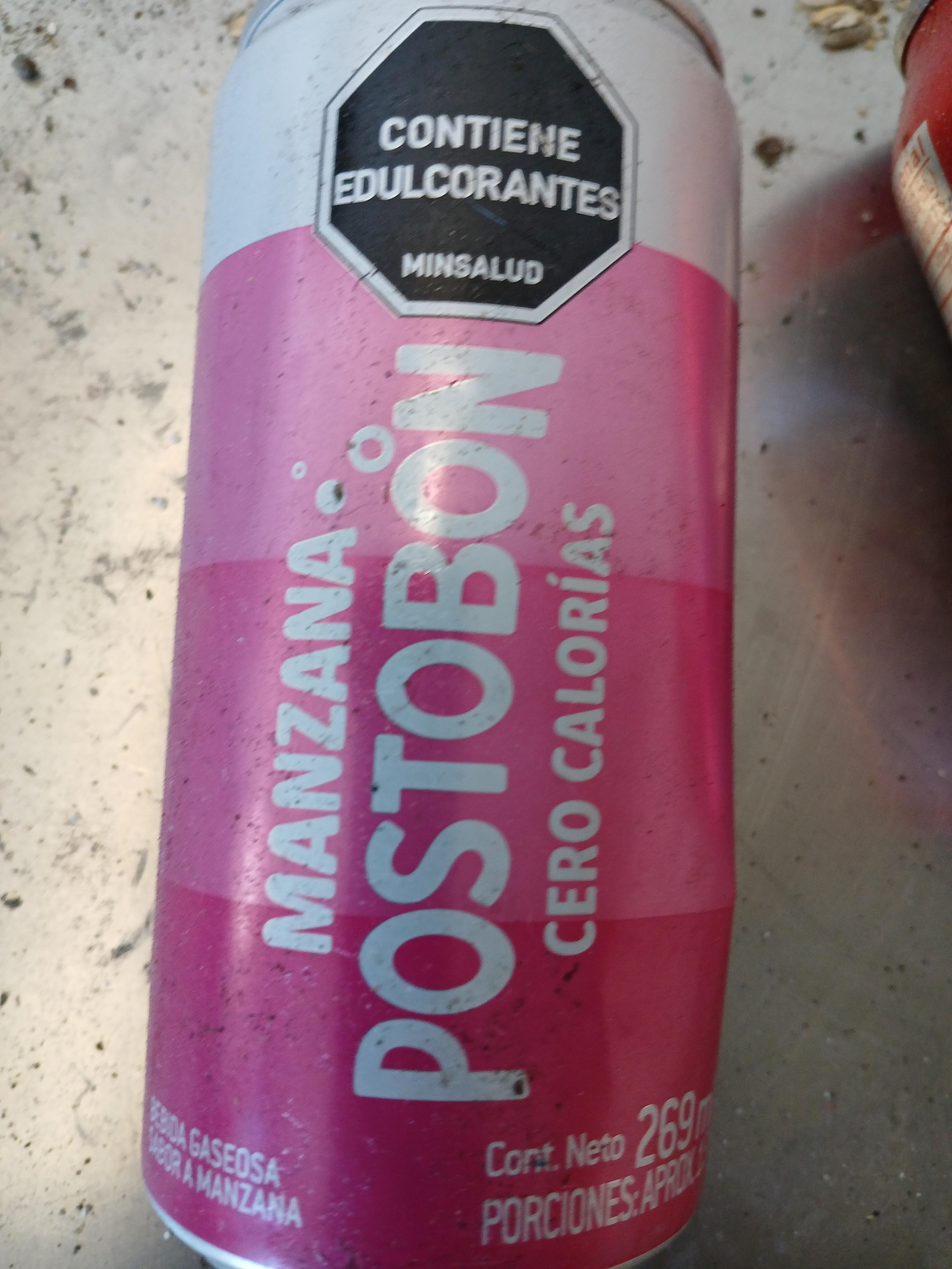Metal: (140, 2, 738, 1264)
